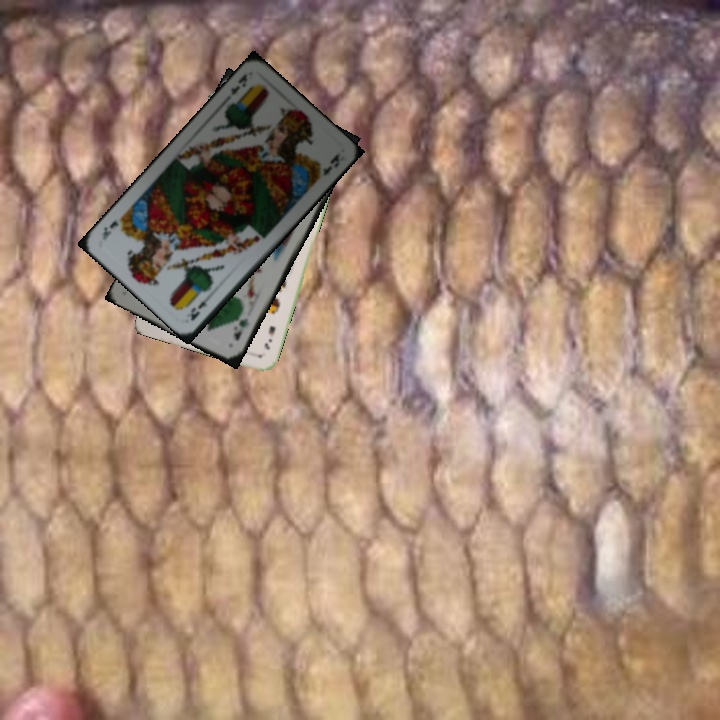E7: (260, 322, 278, 352)
EK: (182, 289, 215, 324), (226, 69, 250, 98)
GK: (229, 314, 252, 343)
